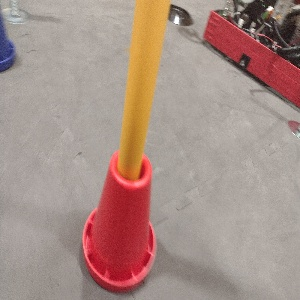Red_1: (77, 142, 158, 291)
